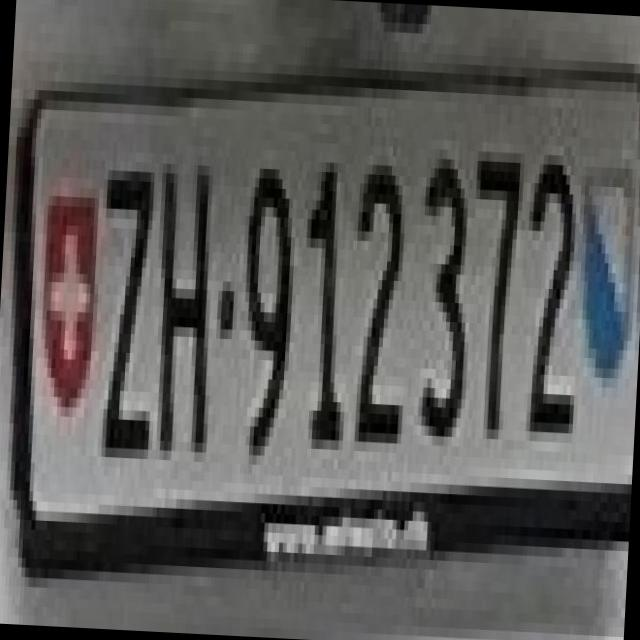1: (284, 142, 355, 450)
2: (510, 134, 588, 433), (336, 144, 408, 443)
3: (402, 119, 476, 428)
7: (456, 122, 530, 431)
9: (214, 138, 308, 458)
H: (140, 134, 214, 452)
Z: (78, 132, 164, 450)
